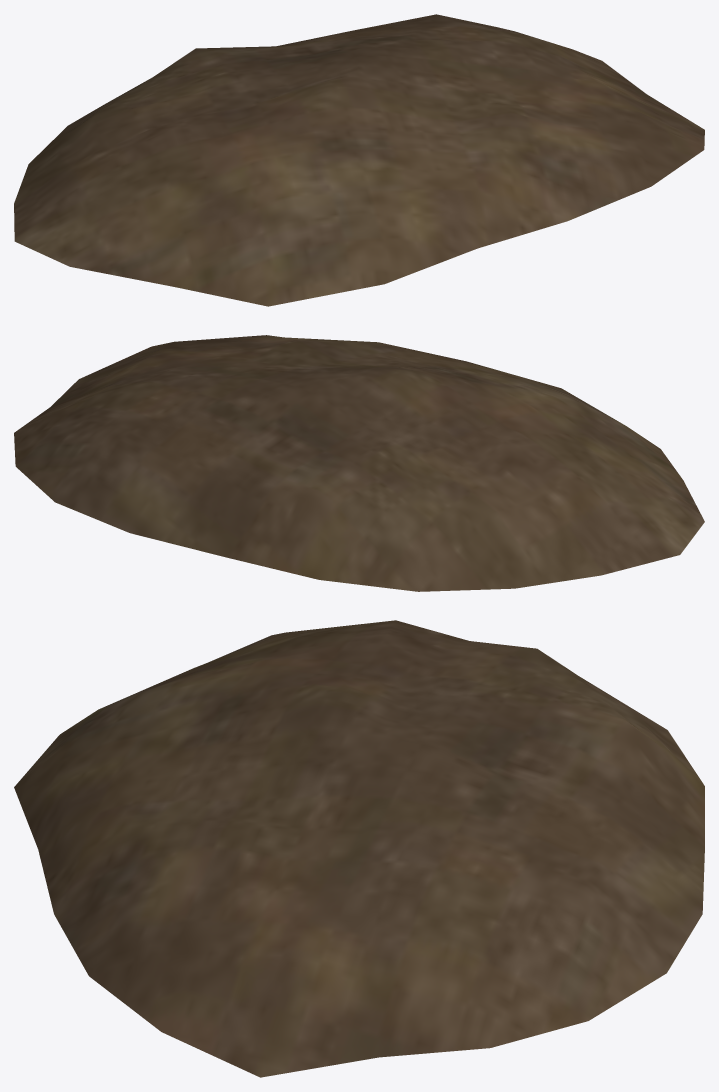
Rendered from SM_Dirt_Mound_C.glb.
3 views of the same model, one above another, from view 1: azimuth 30°, elevation 25°; view 2: azimuth 150°, elevation 25°; view 3: azimuth 270°, elevation 25° (orthographic). The views are drawn at different scales.
Parts seen in each view (by area): view 1: SM_Dirt_Mound_C; view 2: SM_Dirt_Mound_C; view 3: SM_Dirt_Mound_C.
Boxes of the visible parts, x1,y1,x2,y2 form: SM_Dirt_Mound_C: (14,14,704,306); SM_Dirt_Mound_C: (14,335,704,591); SM_Dirt_Mound_C: (14,620,704,1077).
Bounding box in the file's own units: 1.12 × 0.18 × 0.7577.
1 material, 1 textured.
